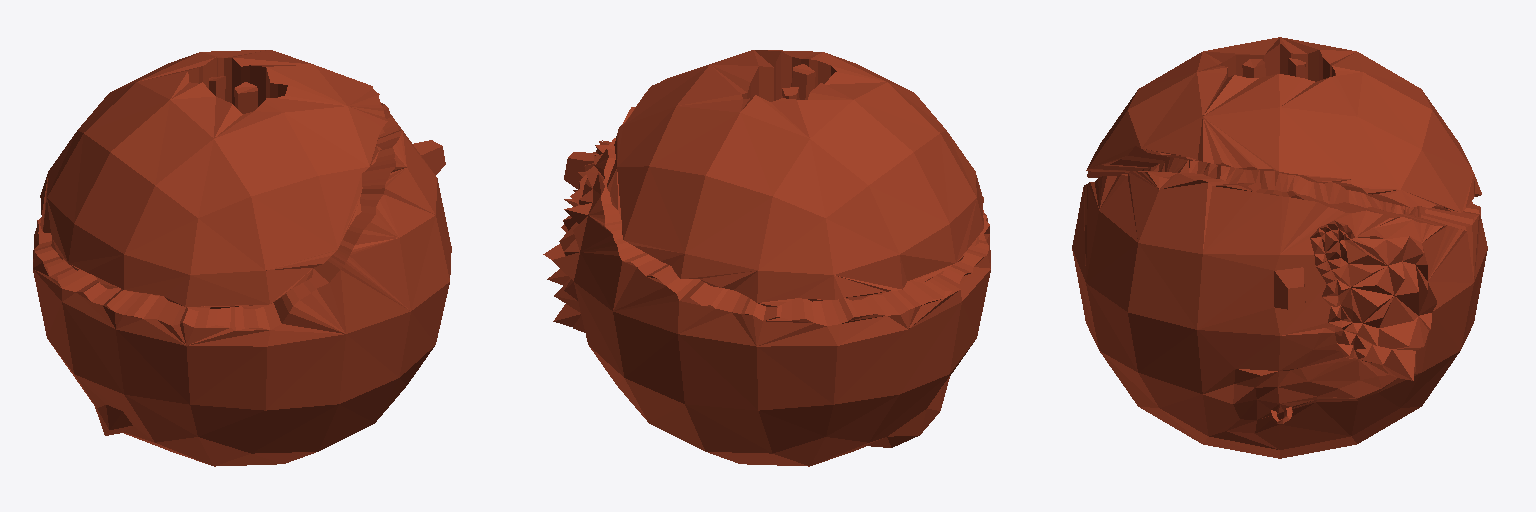
File: map2.obj
The picture shows the model from 3 angles: view 1: azimuth 30°, elevation 25°; view 2: azimuth 150°, elevation 25°; view 3: azimuth 270°, elevation 25°; orthographic projection.
Parts seen in each view (by area): view 1: Cube; view 2: Cube; view 3: Cube.
Part boxes in pixels (left/top/right/bottom): Cube: left=33, top=50, right=451, bottom=466; Cube: left=543, top=50, right=990, bottom=466; Cube: left=1072, top=37, right=1487, bottom=458.
Bounding box in the file's own units: 1.89 × 1.74 × 1.76.